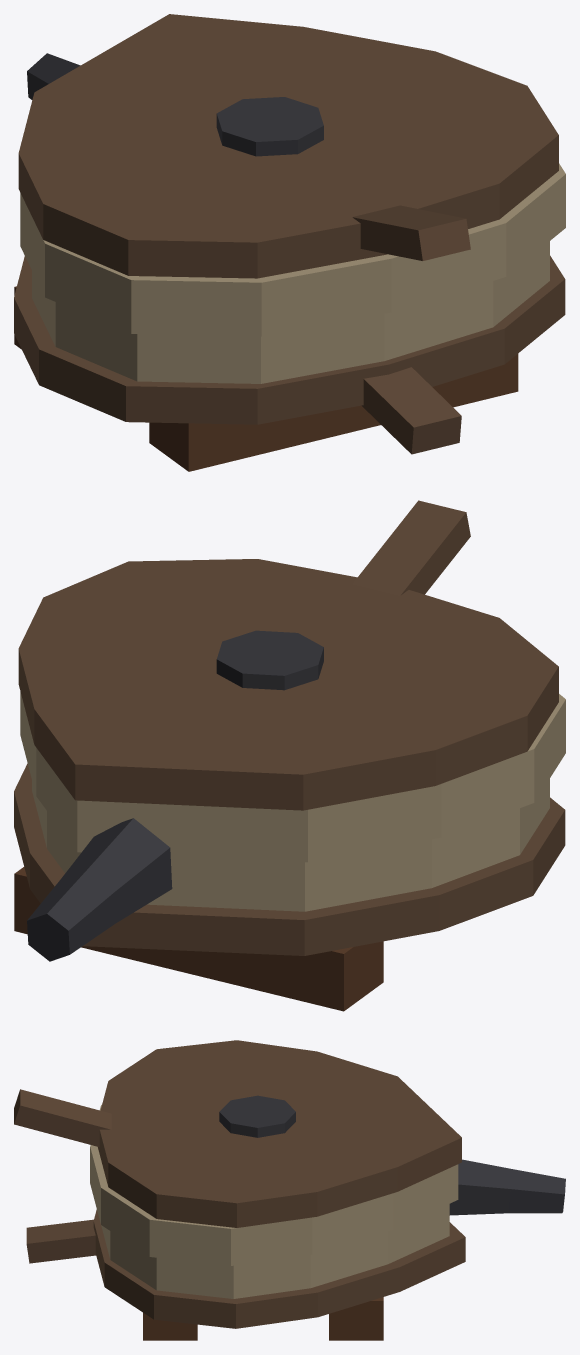
The model's file is vfem2_forge_bellows.obj.
3 renders of one model, top to bottom at view 1: azimuth 30°, elevation 25°; view 2: azimuth 150°, elevation 25°; view 3: azimuth 270°, elevation 25°, orthographic. The views are drawn at different scales.
Parts seen in each view (by area): view 1: vfem2_forge_bellows; view 2: vfem2_forge_bellows; view 3: vfem2_forge_bellows.
Part boxes in pixels (x1,y1,x2,y2): vfem2_forge_bellows: [14, 14, 565, 471]; vfem2_forge_bellows: [14, 500, 565, 1011]; vfem2_forge_bellows: [14, 1040, 565, 1340].
Size of the model in its own units: 0.72 by 0.3792 by 1.01.
